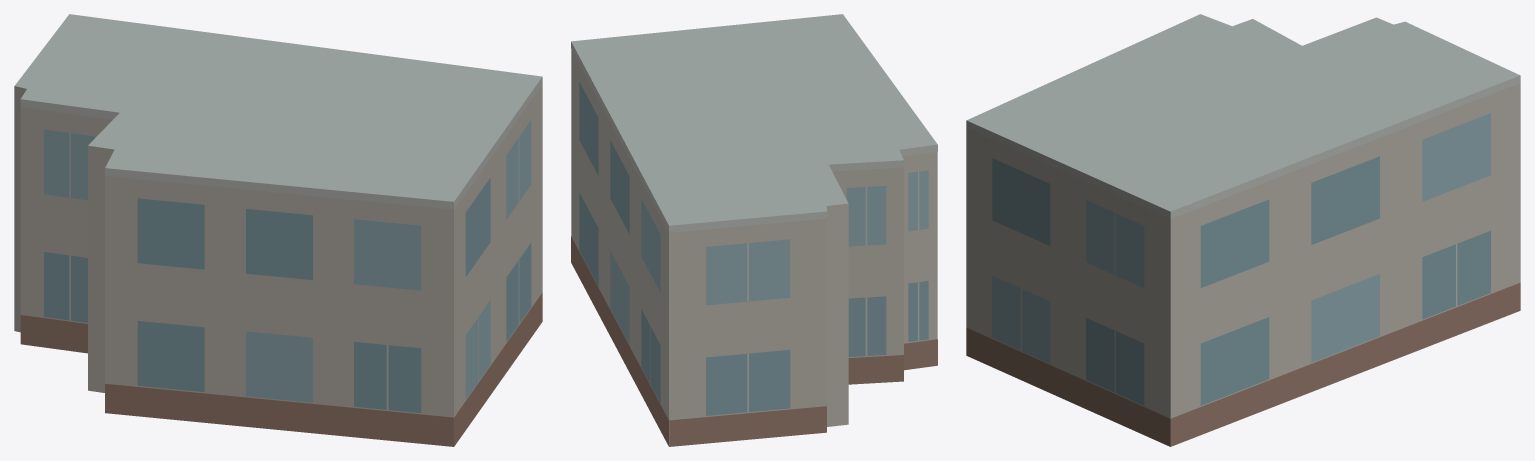
The model's file is survey-upis-33004757.glb.
The picture shows the model from 3 angles, left to right: view 1: azimuth 30°, elevation 25°; view 2: azimuth 150°, elevation 25°; view 3: azimuth 270°, elevation 25°; orthographic projection. The views are drawn at different scales.
Parts seen in each view (by area): view 1: survey-upis-33004757.tmp; view 2: survey-upis-33004757.tmp; view 3: survey-upis-33004757.tmp.
Part boxes in pixels (bbox=[...]): survey-upis-33004757.tmp: bbox=[14, 14, 542, 446]; survey-upis-33004757.tmp: bbox=[571, 14, 937, 446]; survey-upis-33004757.tmp: bbox=[966, 14, 1520, 446].
Size of the model in its own units: 13.7 by 7.6 by 16.23.
